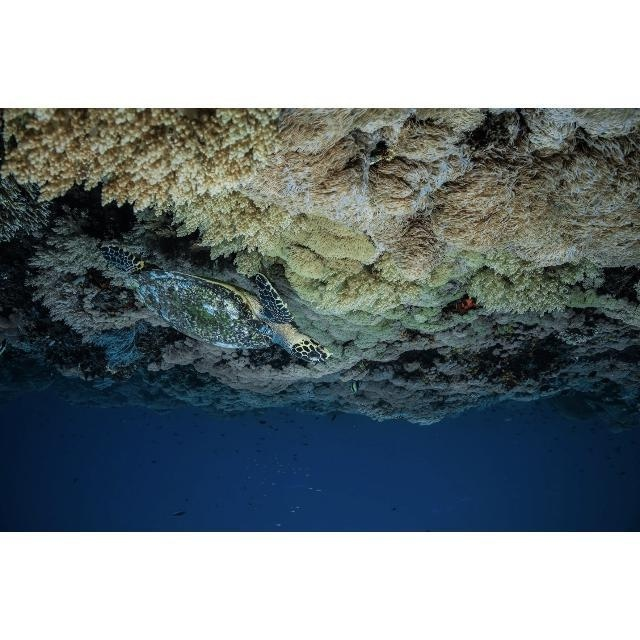turtle: (101, 243, 332, 366)
